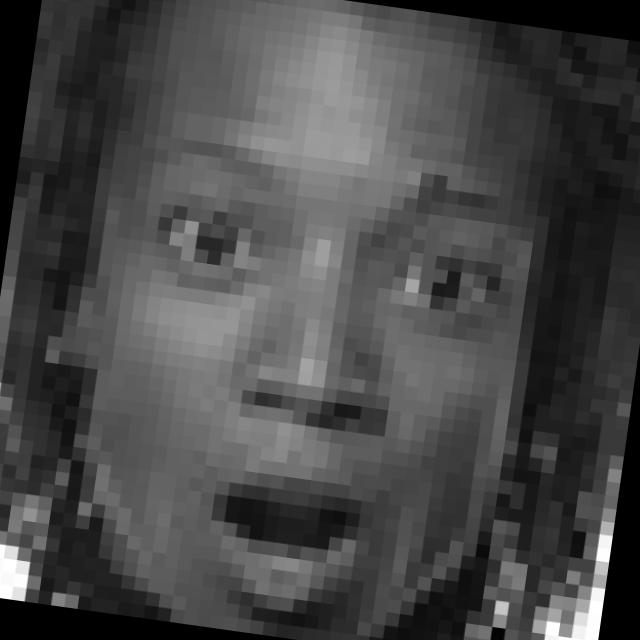surprise: (69, 111, 526, 640)
